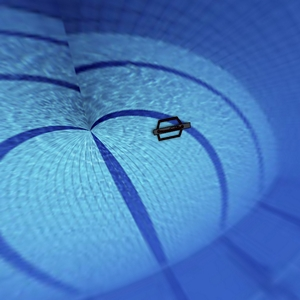submarine: (136, 101, 197, 148)
